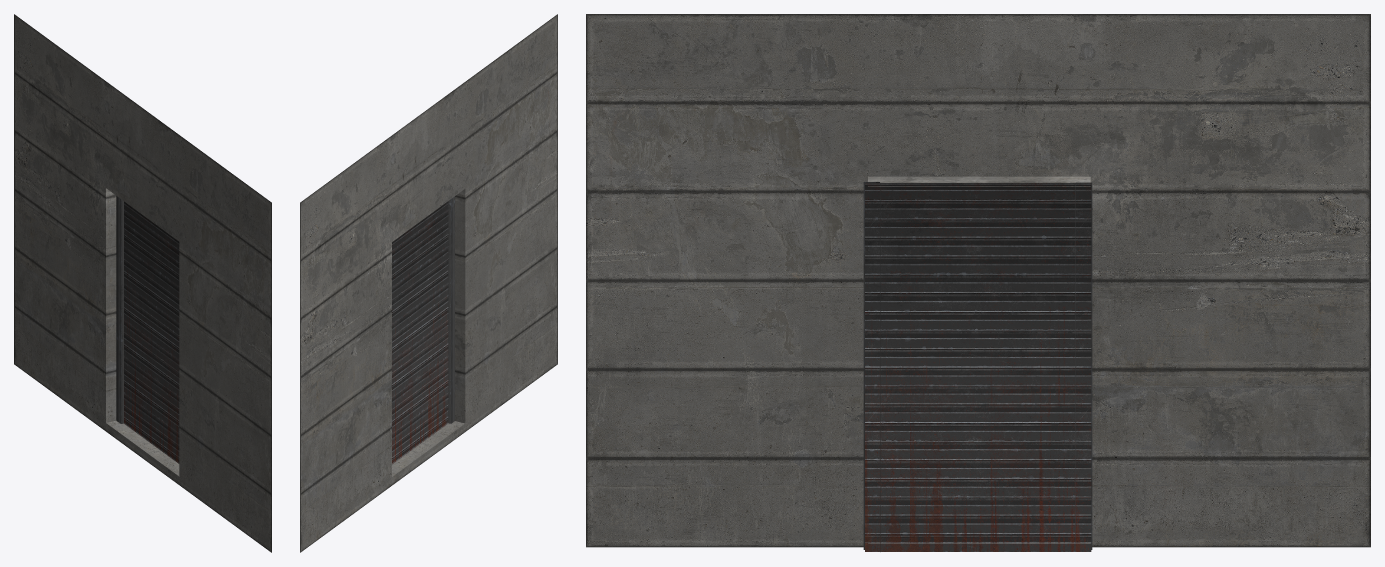
The model's file is CP_Wall_Entry_4m_09.fbx.
3 renders of one model, left to right at view 1: azimuth 30°, elevation 25°; view 2: azimuth 150°, elevation 25°; view 3: azimuth 270°, elevation 25°, orthographic. The views are drawn at different scales.
Parts seen in each view (by area): view 1: CP_Wall_Entry_4m_09; view 2: CP_Wall_Entry_4m_09; view 3: CP_Wall_Entry_4m_09.
Boxes of the visible parts, x1,y1,x2,y2 form: CP_Wall_Entry_4m_09: [14, 14, 271, 552]; CP_Wall_Entry_4m_09: [300, 14, 557, 552]; CP_Wall_Entry_4m_09: [586, 14, 1370, 551].
Size of the model in its own units: 12.55 by 300 by 400.
